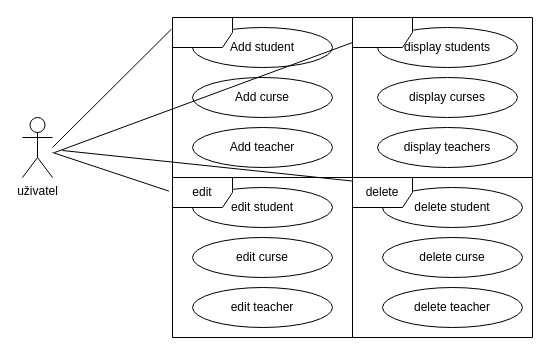
Image size: 550x355. Some labels were removed from this diagram. Here are the shapes that lost their labels. From the top down, the centre of each, then its label:
At (262,97): "add".
At (442,97): "display".
